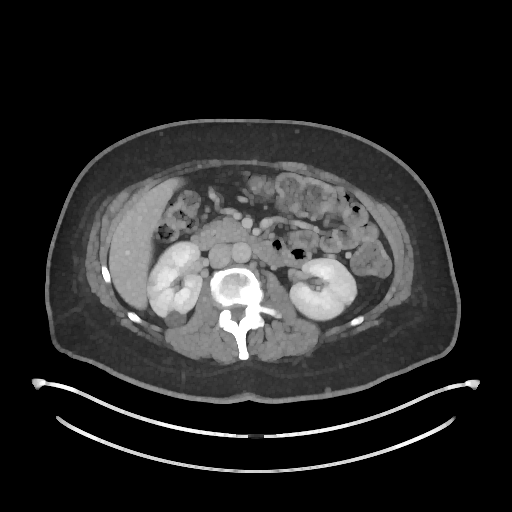Lesion: (161, 306, 189, 332)
